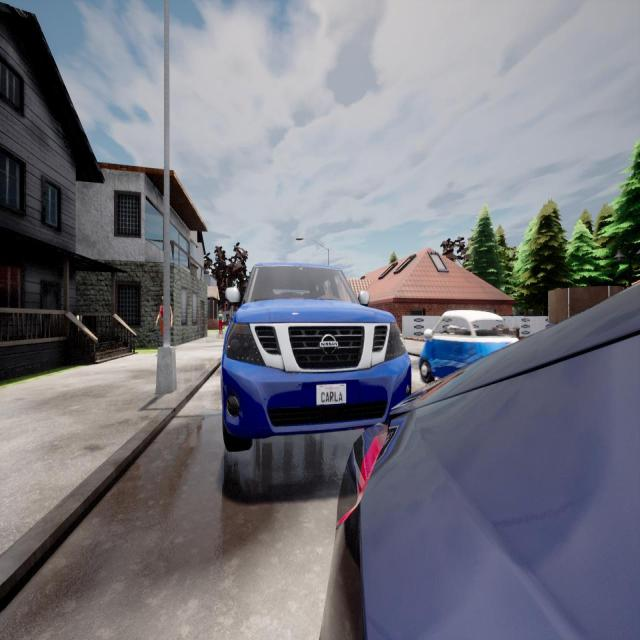Pedestrian: (155, 296, 173, 342), (217, 309, 223, 336)
Vehicle: (320, 286, 640, 638), (221, 264, 411, 450), (421, 310, 519, 380)
